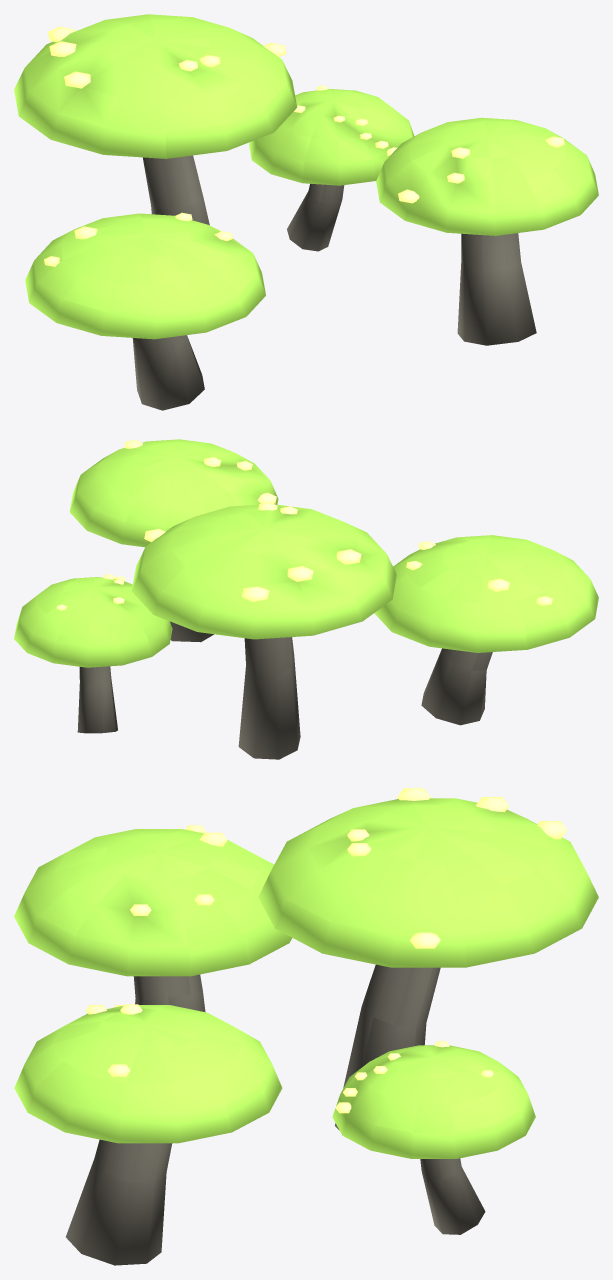
Rendered from obj_deco_hongos_3.glb.
The picture shows the model from 3 angles, top to bottom: view 1: azimuth 30°, elevation 25°; view 2: azimuth 150°, elevation 25°; view 3: azimuth 270°, elevation 25°; orthographic projection. The views are drawn at different scales.
Parts seen in each view (by area): view 1: propforge-libre-deco_hongos; view 2: propforge-libre-deco_hongos; view 3: propforge-libre-deco_hongos.
Boxes of the visible parts, x1,y1,x2,y2 form: propforge-libre-deco_hongos: (14, 14, 598, 410); propforge-libre-deco_hongos: (14, 439, 598, 759); propforge-libre-deco_hongos: (14, 788, 598, 1265).
Size of the model in its own units: 0.6548 by 0.2986 by 0.5207.
